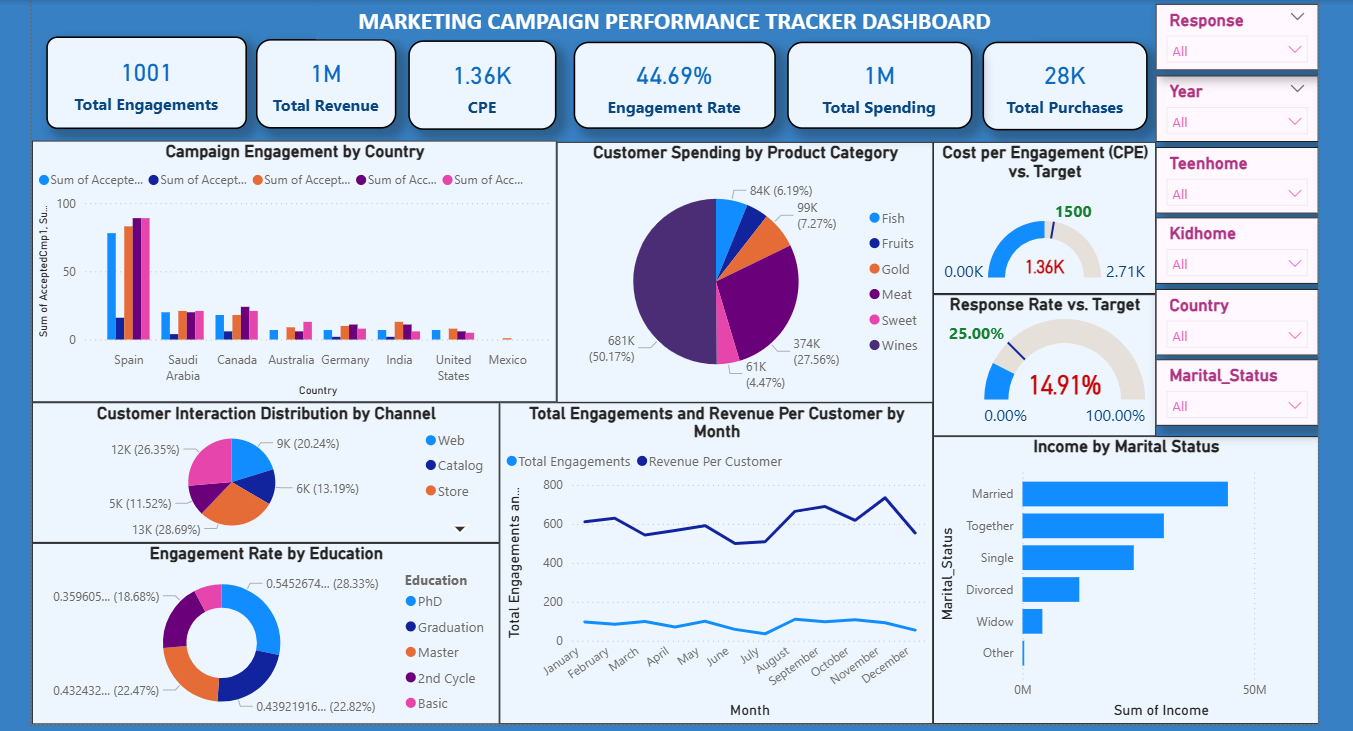

The page's visual inventory and layout, read from the dashboard file:
{"tool":"powerbi","page":{"name":"Page 1","canvas":[1280,720],"ordinal":0},"visuals":[{"type":"card","fields":{"Values":["Marketing_Campaign_Data.Total Engagements"]},"box":[14.3,36.3,199.6,92],"z":0},{"type":"card","fields":{"Values":["Marketing_Campaign_Data.Total Revenue"]},"box":[222.9,38.9,140,89.4],"z":1000},{"type":"card","fields":{"Values":["Marketing_Campaign_Data.CPE"]},"box":[374.6,40.2,147.8,89.4],"z":2000},{"type":"lineChart","fields":{"Category":["Marketing_Campaign_Data.Dt_Customer.Variation.Date Hierarchy.Month"],"Y":["Marketing_Campaign_Data.Total Engagements","Marketing_Campaign_Data.Revenue Per Customer"]},"box":[465.3,400.5,431.6,320.1],"z":3000},{"type":"clusteredColumnChart","title":"Campaign Engagement by Country","fields":{"Category":["Marketing_Campaign_Data.Country"],"Y":["Sum(Marketing_Campaign_Data.AcceptedCmp1)","Sum(Marketing_Campaign_Data.AcceptedCmp2)","Sum(Marketing_Campaign_Data.AcceptedCmp3)","Sum(Marketing_Campaign_Data.AcceptedCmp4)","Sum(Marketing_Campaign_Data.AcceptedCmp5)"]},"box":[0,140,522.3,260.5],"z":4000},{"type":"card","fields":{"Values":["Marketing_Campaign_Data.Engagement Rate"]},"box":[539.2,41.5,200.9,86.8],"z":5000},{"type":"donutChart","fields":{"Y":["Marketing_Campaign_Data.Engagement Rate"],"Category":["Marketing_Campaign_Data.Education"]},"box":[0,540.5,465.3,180.2],"z":6000},{"type":"pieChart","title":"Customer Spending by Product Category","fields":{"Y":["Marketing_Campaign_Data.Fish","Marketing_Campaign_Data.Fruits","Marketing_Campaign_Data.Gold","Marketing_Campaign_Data.Meat","Marketing_Campaign_Data.Sweet","Marketing_Campaign_Data.Wines"]},"box":[522.3,141.3,374.6,259.2],"z":7000},{"type":"card","fields":{"Values":["Marketing_Campaign_Data.Total Purchases"]},"box":[946.1,41.5,164.6,88.1],"z":8000},{"type":"clusteredBarChart","title":" Income by Marital Status","fields":{"Category":["Marketing_Campaign_Data.Marital_Status"],"Y":["Sum(Marketing_Campaign_Data.Income)"]},"box":[896.9,434.2,383.6,286.4],"z":9000},{"type":"slicer","fields":{"Values":["Marketing_Campaign_Data.Dt_Customer.Variation.Date Hierarchy.Year"]},"box":[1118.5,75.2,162,66.1],"z":10000},{"type":"slicer","fields":{"Values":["Marketing_Campaign_Data.Response"]},"box":[1118.5,3.9,162,66.1],"z":11000},{"type":"slicer","fields":{"Values":["Marketing_Campaign_Data.Teenhome"]},"box":[1118.5,146.5,162,66.1],"z":12000},{"type":"textbox","box":[282.5,0,714.1,38.9],"z":13000},{"type":"slicer","fields":{"Values":["Marketing_Campaign_Data.Kidhome"]},"box":[1118.5,216.4,162,66.1],"z":14000},{"type":"card","fields":{"Values":["Marketing_Campaign_Data.Total Spending"]},"box":[751.7,41.5,184,86.8],"z":15000},{"type":"gauge","title":"Response Rate vs. Target","fields":{"TargetValue":["Marketing_Campaign_Data.Response Rate Target"],"Y":["Marketing_Campaign_Data.Response Rate"]},"box":[896.9,292.9,221.6,141.3],"z":16000},{"type":"gauge","title":"Cost per Engagement (CPE) vs. Target","fields":{"Y":["Marketing_Campaign_Data.CPE"],"TargetValue":["Marketing_Campaign_Data.CPE Target"]},"box":[896.9,141.3,221.6,151.6],"z":17000},{"type":"slicer","fields":{"Values":["Marketing_Campaign_Data.Country"]},"box":[1118.5,287.7,162,66.1],"z":18000},{"type":"slicer","fields":{"Values":["Marketing_Campaign_Data.Marital_Status"]},"box":[1118.5,357.7,162,66.1],"z":19000},{"type":"pieChart","title":"Customer Interaction Distribution by Channel","fields":{"Y":["Marketing_Campaign_Data.Web","Marketing_Campaign_Data.Catalog","Marketing_Campaign_Data.Store","Marketing_Campaign_Data.Deals","Marketing_Campaign_Data.Visits"]},"box":[0,400.5,465.3,140],"z":19001}]}

Visuals, with their boxes in screenshot pixels (x1, y1, x2, y2):
card - Marketing_Campaign_Data.Total Engagements: Rect(46, 36, 245, 128)
card - Marketing_Campaign_Data.Total Revenue: Rect(254, 39, 394, 128)
card - Marketing_Campaign_Data.CPE: Rect(406, 40, 554, 129)
lineChart - Marketing_Campaign_Data.Dt_Customer.Variation.Date Hierarchy.Month x Marketing_Campaign_Data.Total Engagements: Rect(497, 400, 928, 720)
"Campaign Engagement by Country" clusteredColumnChart: Rect(32, 140, 553, 400)
card - Marketing_Campaign_Data.Engagement Rate: Rect(570, 41, 771, 128)
donutChart - Marketing_Campaign_Data.Engagement Rate x Marketing_Campaign_Data.Education: Rect(32, 540, 497, 720)
"Customer Spending by Product Category" pieChart: Rect(553, 141, 928, 400)
card - Marketing_Campaign_Data.Total Purchases: Rect(977, 41, 1141, 129)
" Income by Marital Status" clusteredBarChart: Rect(928, 434, 1311, 720)
slicer - Marketing_Campaign_Data.Dt_Customer.Variation.Date Hierarchy.Year: Rect(1149, 75, 1311, 141)
slicer - Marketing_Campaign_Data.Response: Rect(1149, 4, 1311, 70)
slicer - Marketing_Campaign_Data.Teenhome: Rect(1149, 146, 1311, 212)
textbox: Rect(314, 0, 1027, 39)
slicer - Marketing_Campaign_Data.Kidhome: Rect(1149, 216, 1311, 282)
card - Marketing_Campaign_Data.Total Spending: Rect(783, 41, 966, 128)
"Response Rate vs. Target" gauge: Rect(928, 293, 1149, 434)
"Cost per Engagement (CPE) vs. Target" gauge: Rect(928, 141, 1149, 293)
slicer - Marketing_Campaign_Data.Country: Rect(1149, 287, 1311, 353)
slicer - Marketing_Campaign_Data.Marital_Status: Rect(1149, 357, 1311, 423)
"Customer Interaction Distribution by Channel" pieChart: Rect(32, 400, 497, 540)
